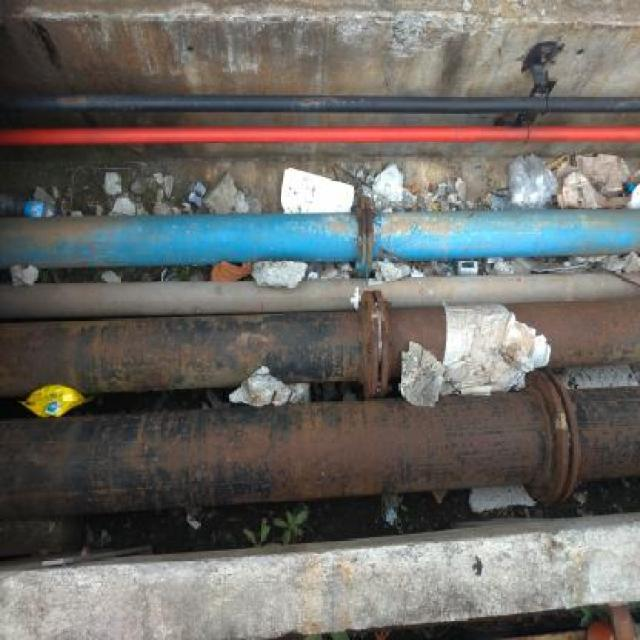gas: (6, 387, 638, 514), (5, 298, 640, 399), (0, 207, 640, 266), (0, 272, 639, 312), (2, 95, 640, 110), (0, 126, 639, 140)
